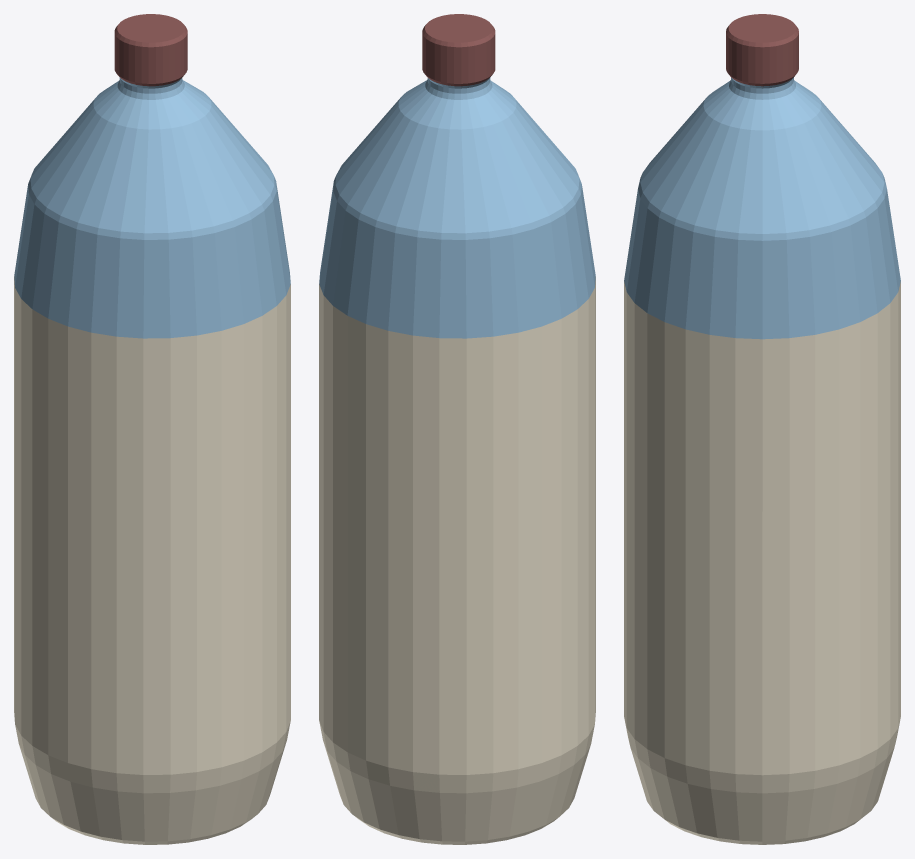
File: Milk.fbx
3 views of the same model, side by side, from view 1: azimuth 30°, elevation 25°; view 2: azimuth 150°, elevation 25°; view 3: azimuth 270°, elevation 25° (orthographic).
Visible parts, largest first — view 1: Cylinder; view 2: Cylinder; view 3: Cylinder.
Part boxes in pixels (bbox=[...]): Cylinder: bbox=[14, 14, 290, 844]; Cylinder: bbox=[319, 14, 595, 844]; Cylinder: bbox=[624, 14, 900, 844].
Bounding box in the file's own units: 64.16 × 197 × 64.16.
